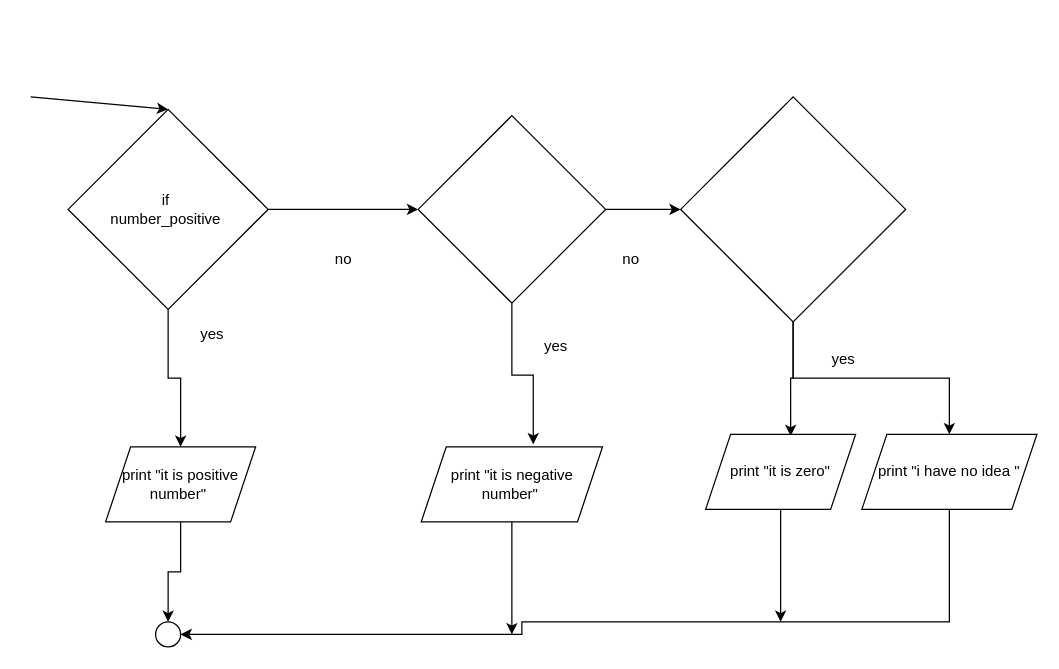
The diagram is 1059 pixels wide and 669 high, and some of its shapes have lost their labels. The centre of each missing label's shape, as x and y in pixels:
if number_negative: the point at 511,208
if number_zero: the point at 792,209
